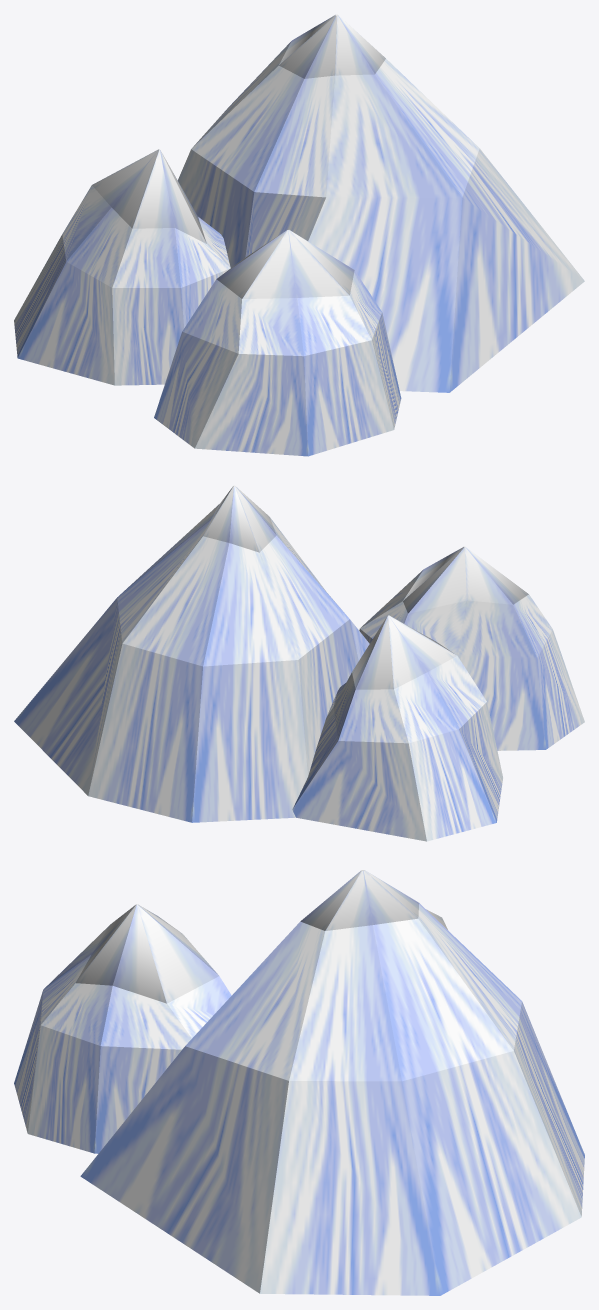
The model's file is Poly_World_Map_Mountain_01_B_Snow.obj.
3 renders of one model, top to bottom at view 1: azimuth 30°, elevation 25°; view 2: azimuth 150°, elevation 25°; view 3: azimuth 270°, elevation 25°, orthographic. The views are drawn at different scales.
Visible parts, largest first — view 1: Grid.003, Grid.001; view 2: Grid.003, Grid.001; view 3: Grid.003, Grid.001.
Part boxes in pixels (bbox=[...]): Grid.003: bbox=[178, 14, 584, 392]; Grid.001: bbox=[14, 149, 401, 456]; Grid.003: bbox=[14, 485, 369, 822]; Grid.001: bbox=[292, 546, 584, 841]; Grid.003: bbox=[80, 870, 584, 1295]; Grid.001: bbox=[14, 904, 447, 1153].
Size of the model in its own units: 1.53 by 0.809 by 1.33.
Materials: 1 (1 with a texture image).
